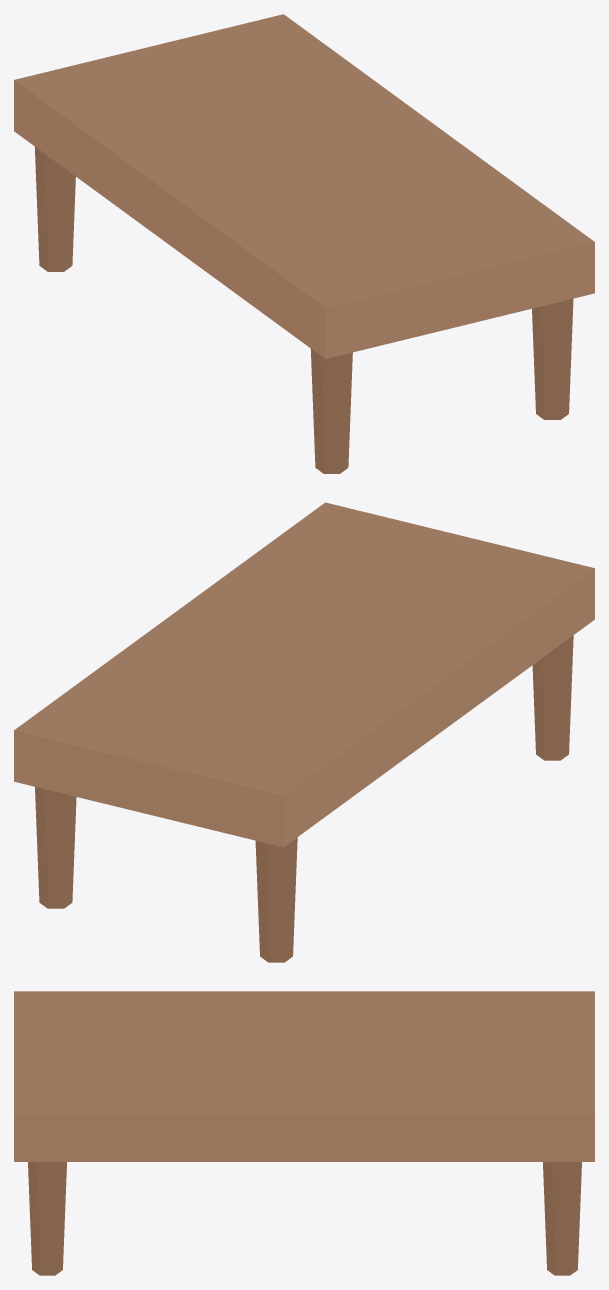
Rendered from table.glb.
3 renders of one model, top to bottom at view 1: azimuth 30°, elevation 25°; view 2: azimuth 150°, elevation 25°; view 3: azimuth 270°, elevation 25°, orthographic. The views are drawn at different scales.
Visible parts, largest first — view 1: Cylinder.003; view 2: Cylinder.003; view 3: Cylinder.003.
Boxes of the visible parts, bbox=[...] form: Cylinder.003: bbox=[14, 14, 594, 473]; Cylinder.003: bbox=[14, 502, 594, 962]; Cylinder.003: bbox=[14, 991, 594, 1275].
Size of the model in its own units: 2.2 by 1.4 by 4.4.
